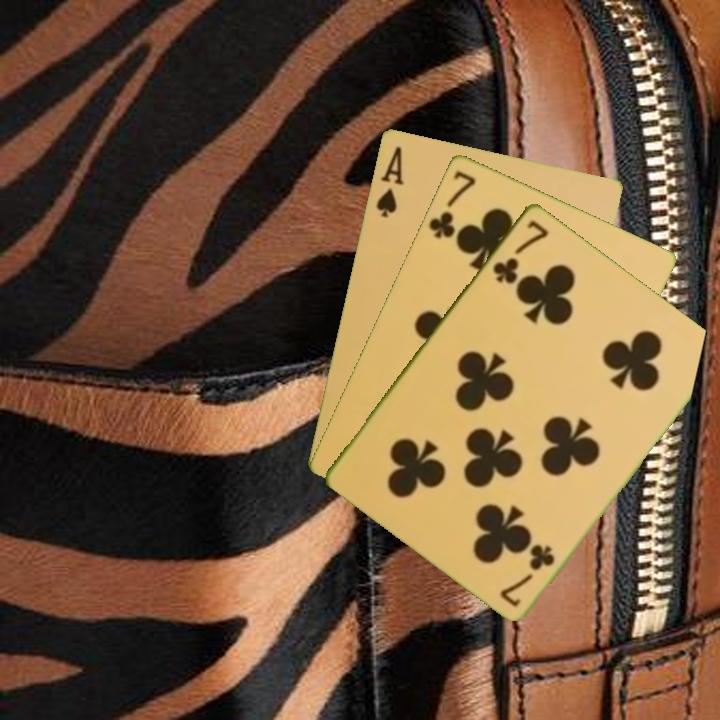7c: (488, 216, 551, 287), (496, 539, 558, 609), (424, 166, 479, 242)
As: (372, 142, 407, 220)
